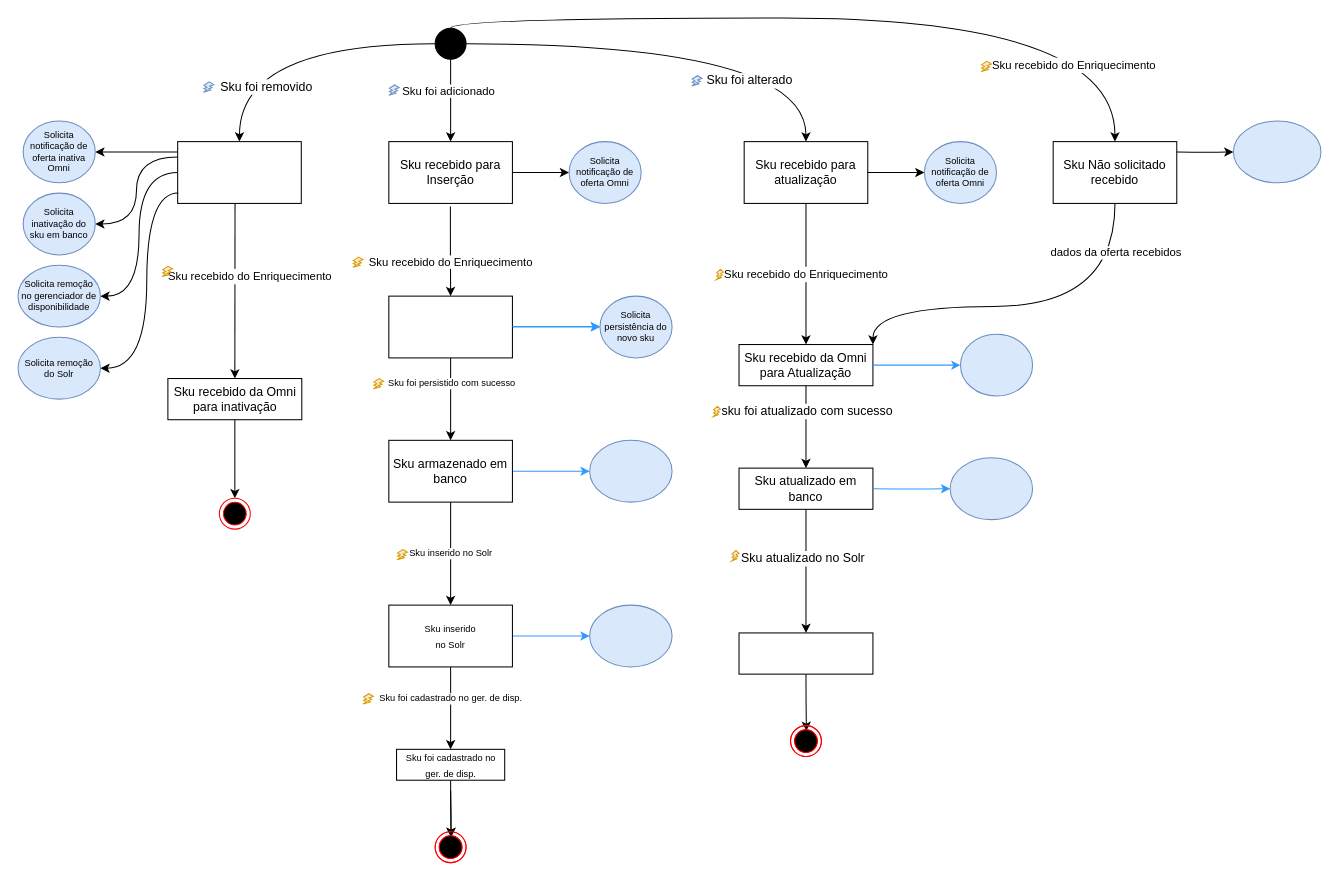
The diagram is 1339 pixels wide and 881 high, and some of its shapes have lost their labels. The centre of each missing label's shape, as x and y in pixels:
"Atualização indexada" goes at pixel 805 653.
"Requisita dados da oferta ao changes-manager" goes at pixel 1276 151.
"Sku recebido da Omni para inserção" goes at pixel 450 326.
"Sku recebido para Remoção" goes at pixel 239 172.
"Solicita atualização no Solr" goes at pixel 991 488.
"Solicita cadastro no gerenciador de disponibilidade" goes at pixel 630 635.
"Solicita inserção no Solr" goes at pixel 630 470.
"Solicita persistência do sku alterado" goes at pixel 996 364.
